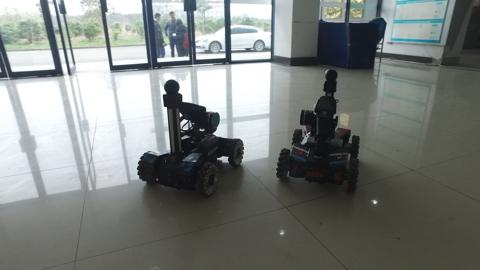chariot: (123, 69, 249, 204), (270, 64, 373, 205)
